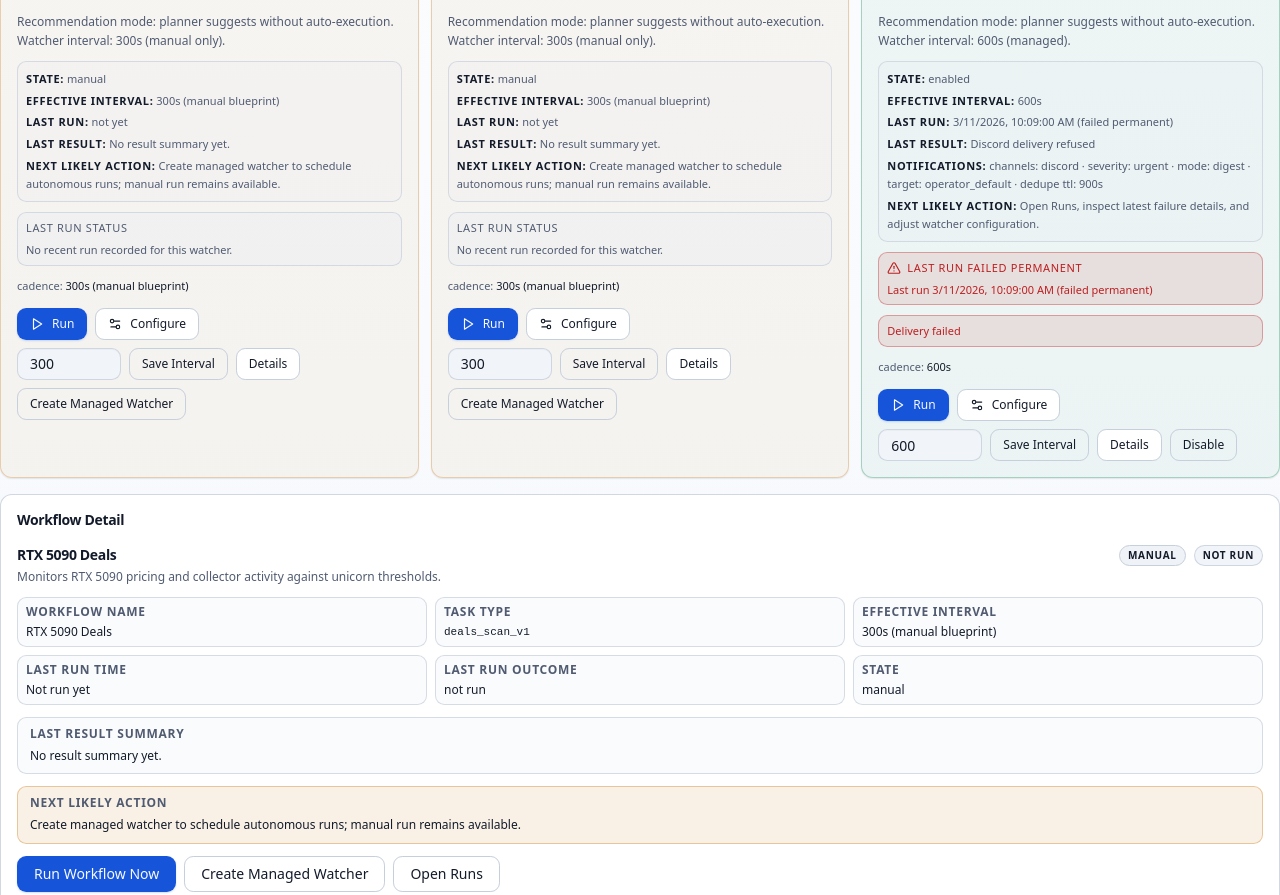
WorkflowsPage › shows derived operator summary for workflow details without raw payload internals
(page scrolled)
Click the button "Details" below "Delivery failed".
click(1129, 445)  # box [1097,429,1162,461]
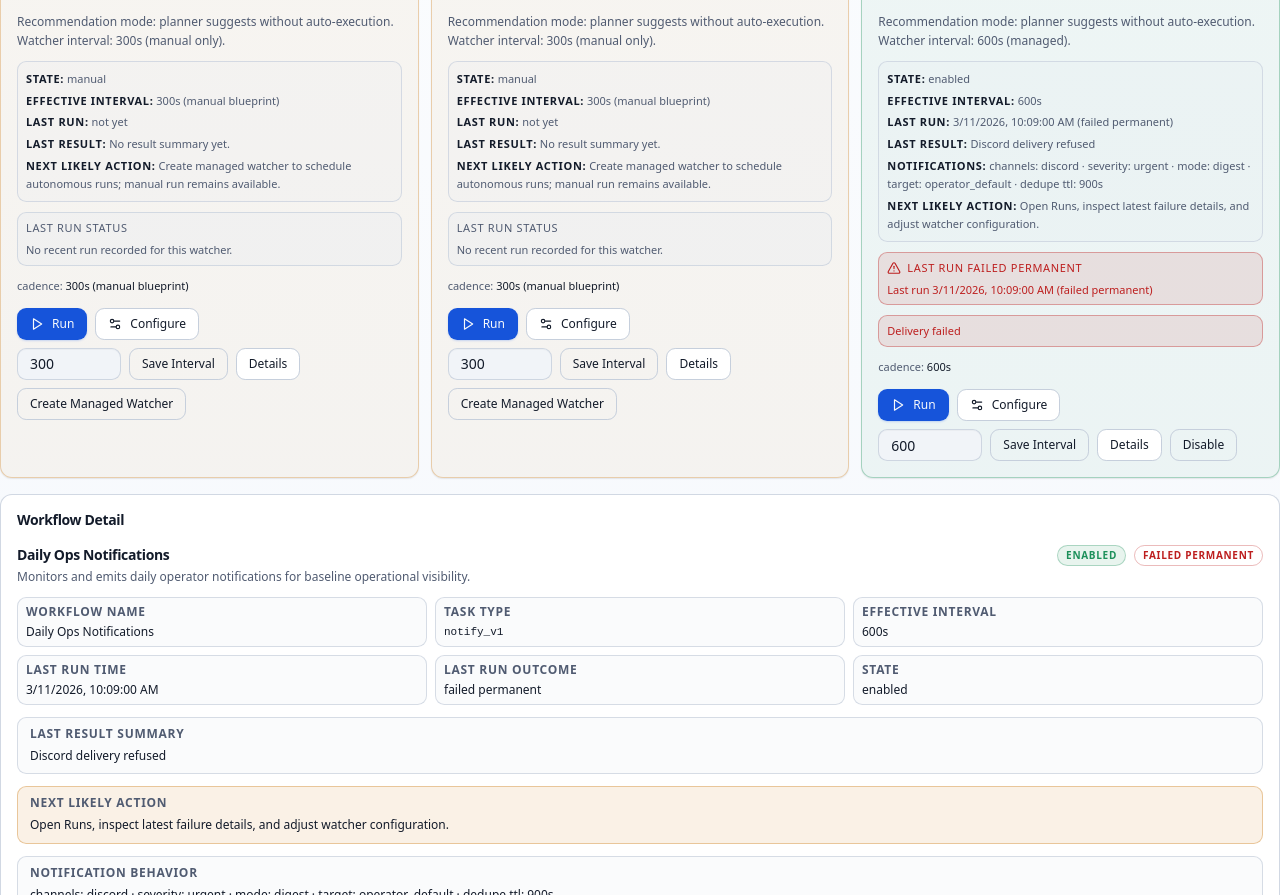
Expected: the heading "Workflow Detail" is shown, [17,510,124,529]
Result: the text "Notification Behavior" is shown at [30,864,198,881]
